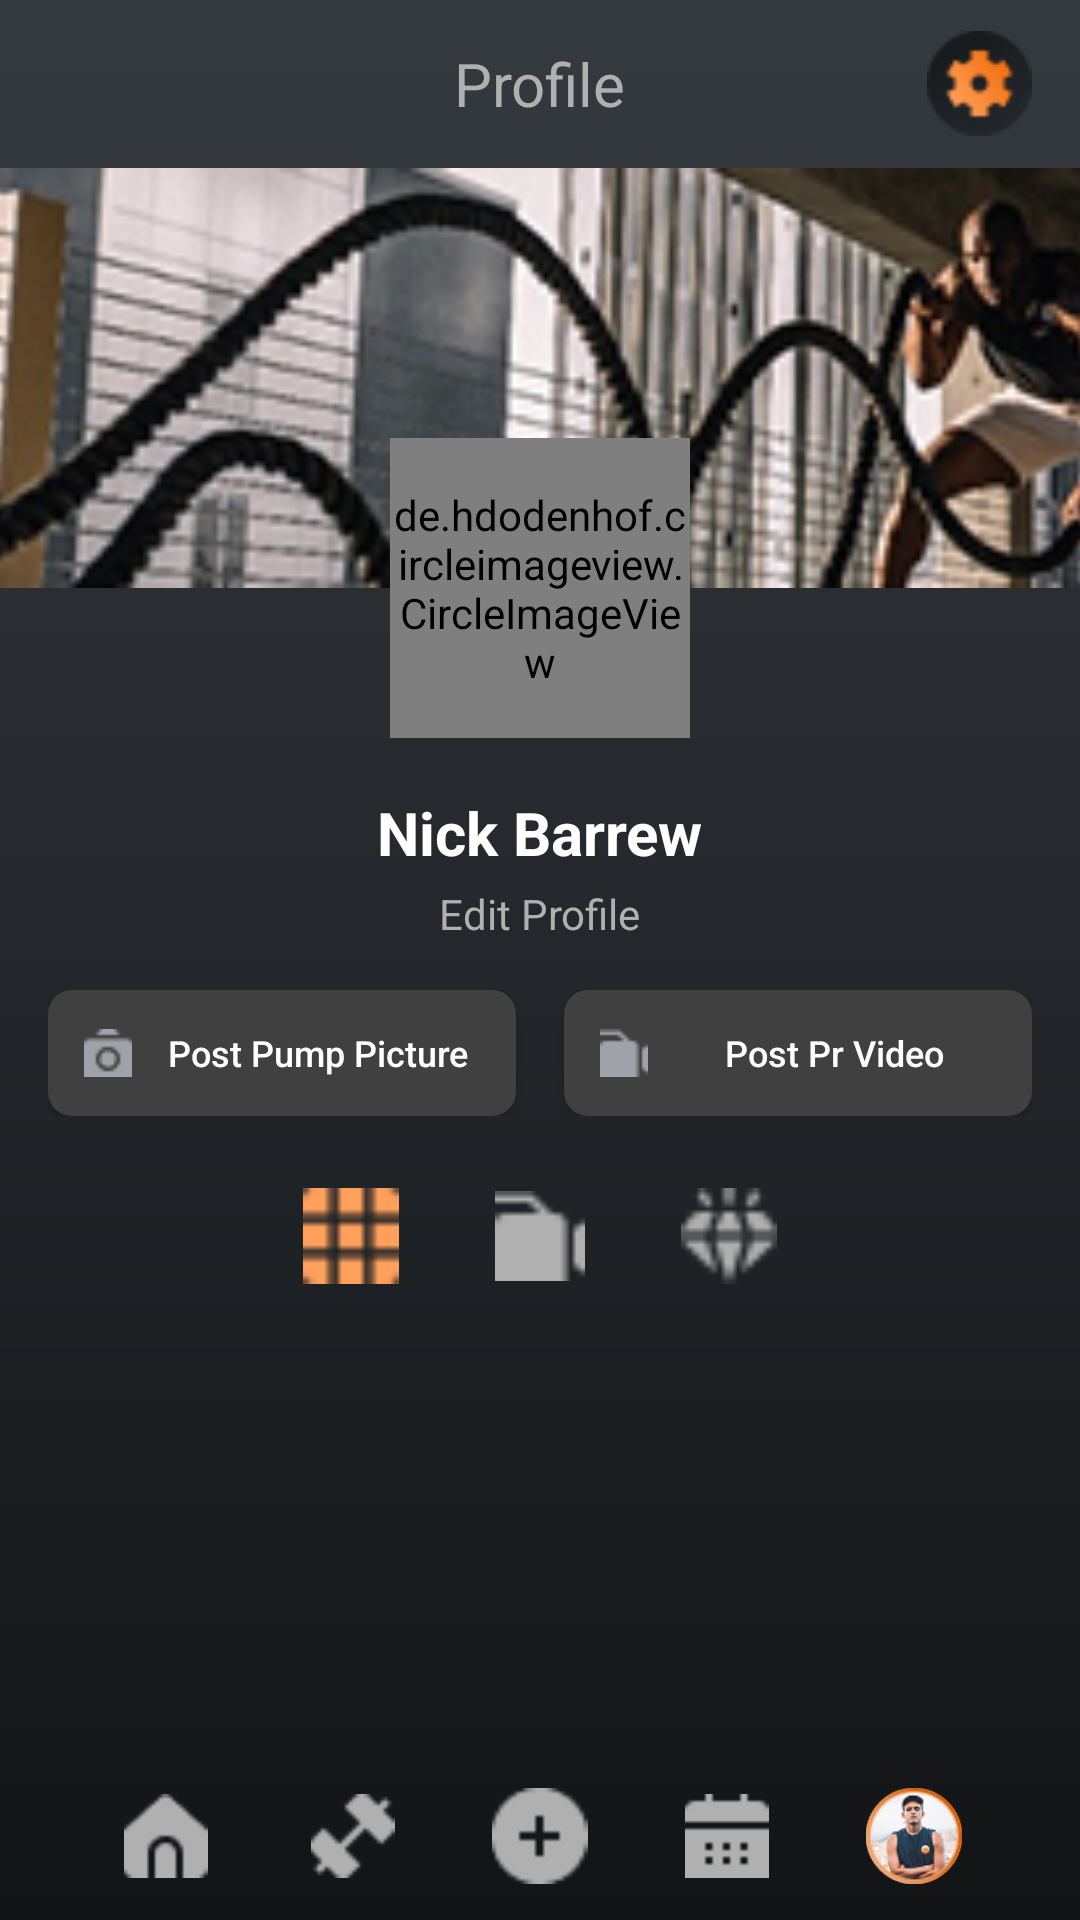

Locate icon controls on the screen. Image size 1080w x 1920h, boxes as (x1, y1, x2, y2).
add: (492, 1788, 588, 1884)
calender: (685, 1794, 769, 1878)
dumbell: (311, 1794, 395, 1878)
grid: (303, 1188, 399, 1284)
home: (124, 1794, 208, 1878)
profilephoto: (866, 1788, 962, 1884)
settings: (927, 31, 1028, 123)
